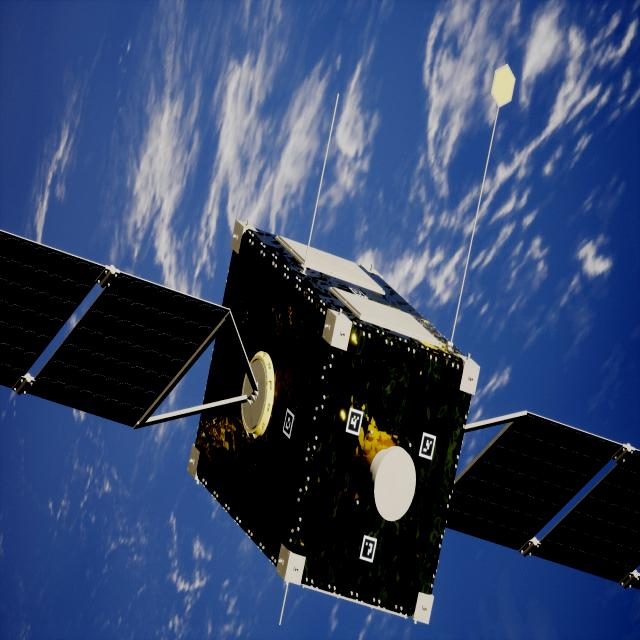satellite: (0, 222, 640, 625)
